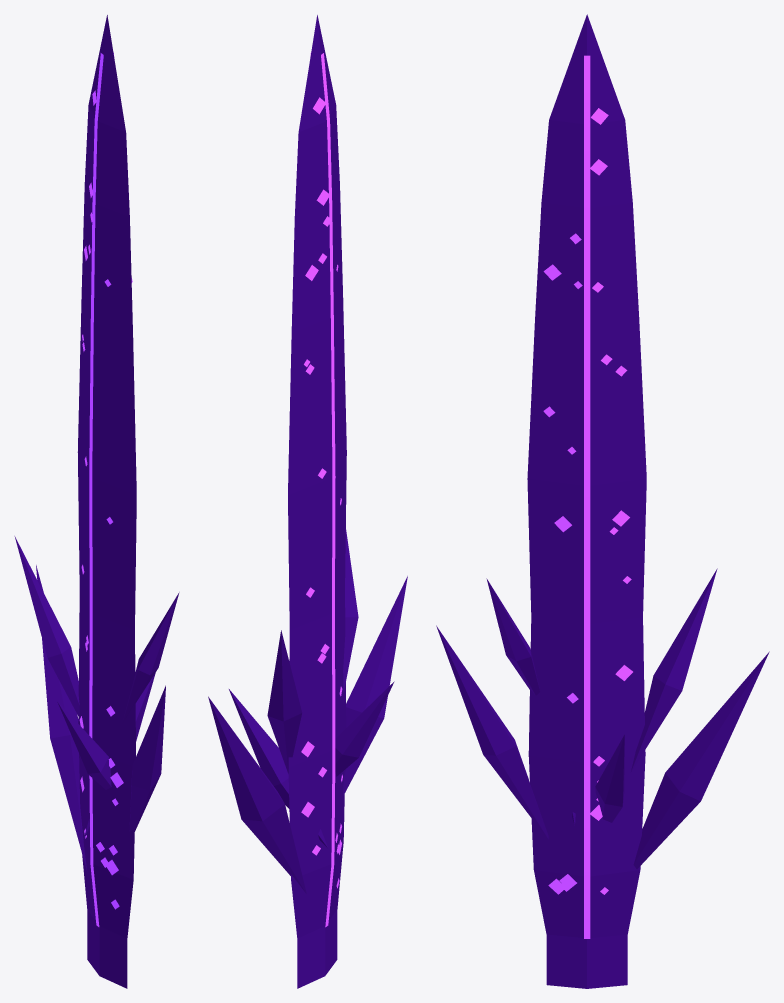
The model's file is blade_galaxy.fbx.
3 renders of one model, left to right at view 1: azimuth 30°, elevation 25°; view 2: azimuth 150°, elevation 25°; view 3: azimuth 270°, elevation 25°, orthographic.
Visible parts, largest first — view 1: blade_galaxy_blade, blade_galaxy_glow; view 2: blade_galaxy_blade, blade_galaxy_glow; view 3: blade_galaxy_blade, blade_galaxy_glow.
Part boxes in pixels (x1=…): blade_galaxy_blade: x1=14, y1=15, x2=179, y2=988; blade_galaxy_glow: x1=79, y1=52, x2=132, y2=926; blade_galaxy_blade: x1=208, y1=15, x2=407, y2=988; blade_galaxy_glow: x1=301, y1=52, x2=342, y2=927; blade_galaxy_blade: x1=436, y1=14, x2=769, y2=988; blade_galaxy_glow: x1=543, y1=55, x2=632, y2=938.
Bounding box in the file's own units: 61.81 × 422 × 132.
